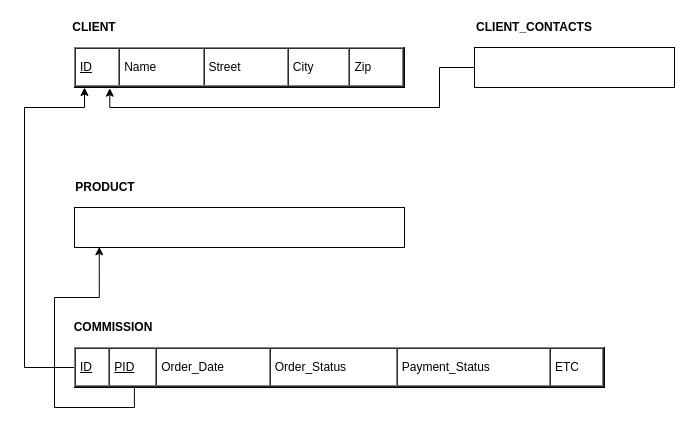
Image size: 692x433. Some labels were removed from this diagram. Each missing label, with the centre of its shape:
"ID Contact_Info" goes at pixel 574 67.
"PID Description Price Quantity" goes at pixel 239 227.
